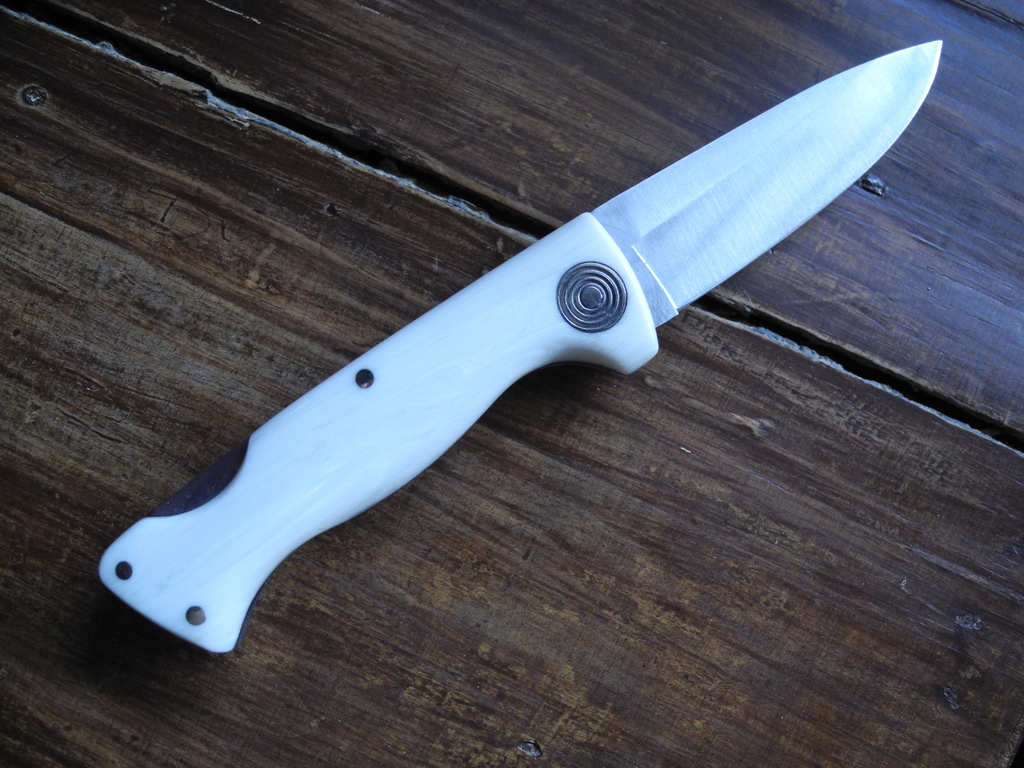knife: (99, 40, 942, 652)
